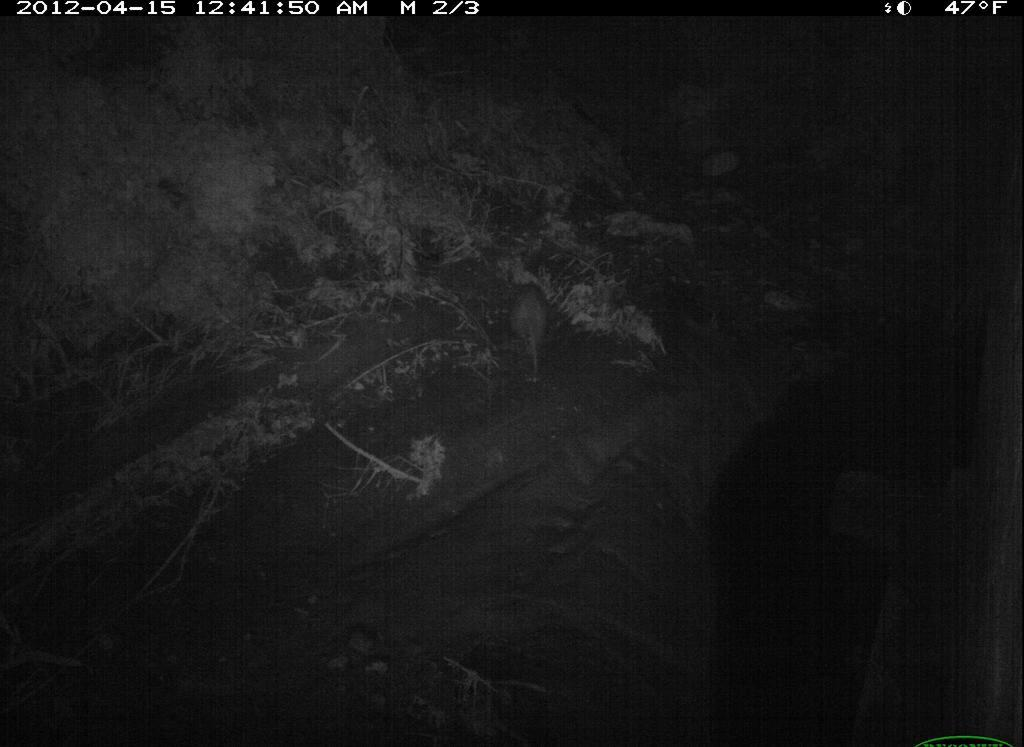opossum: (501, 271, 562, 397)
